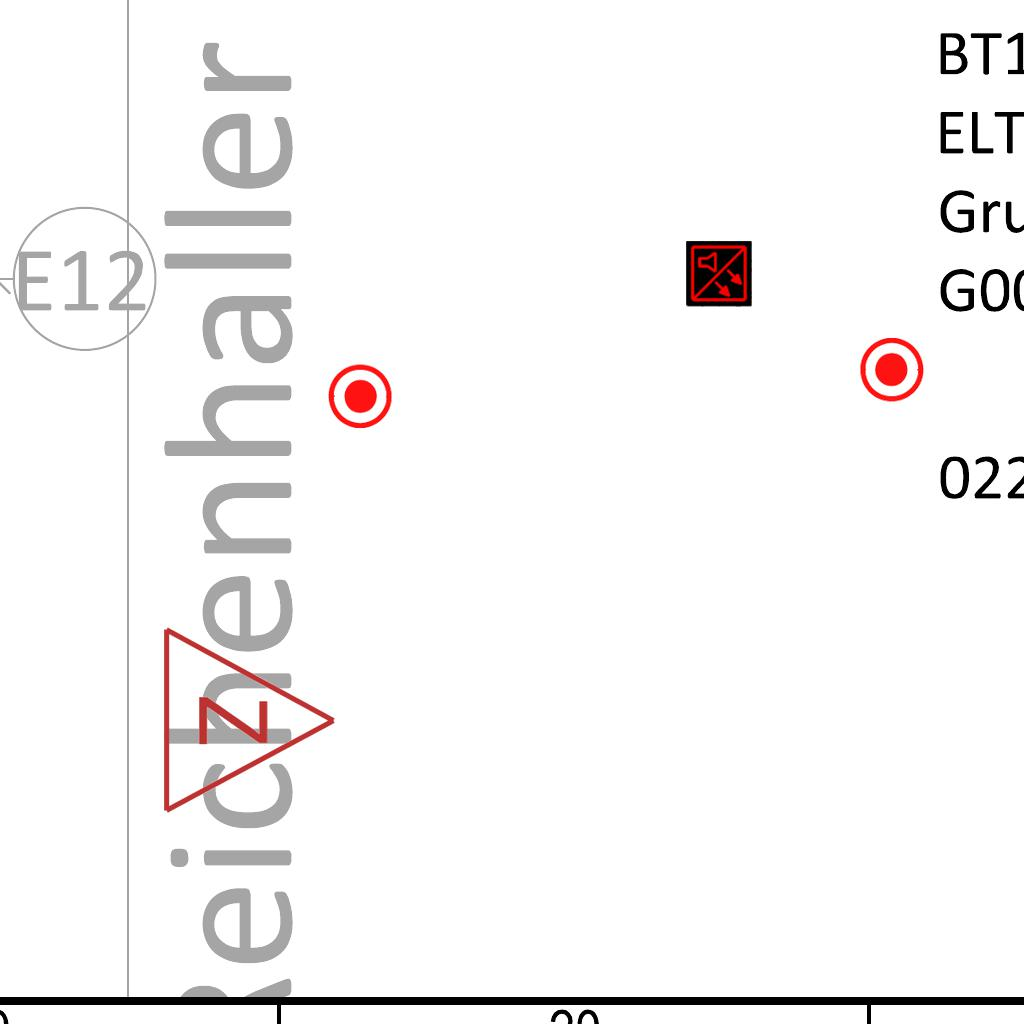OKW_Multisensormelder_(Kombination_optischer_Rauch-Kahlenmonoxid_Waerme-Melder): (686, 241, 752, 307)
Taster: (858, 338, 924, 404), (328, 362, 394, 428)
Zimmersignalleuchte: (149, 620, 349, 816)
